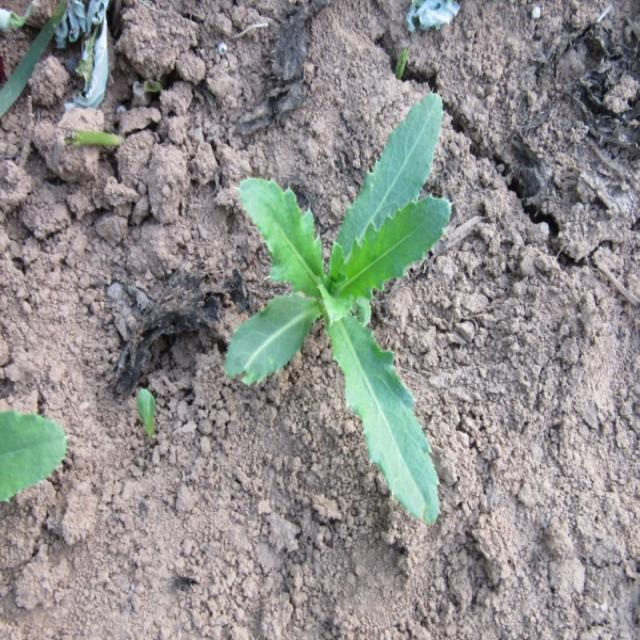cs: (218, 88, 454, 530)
